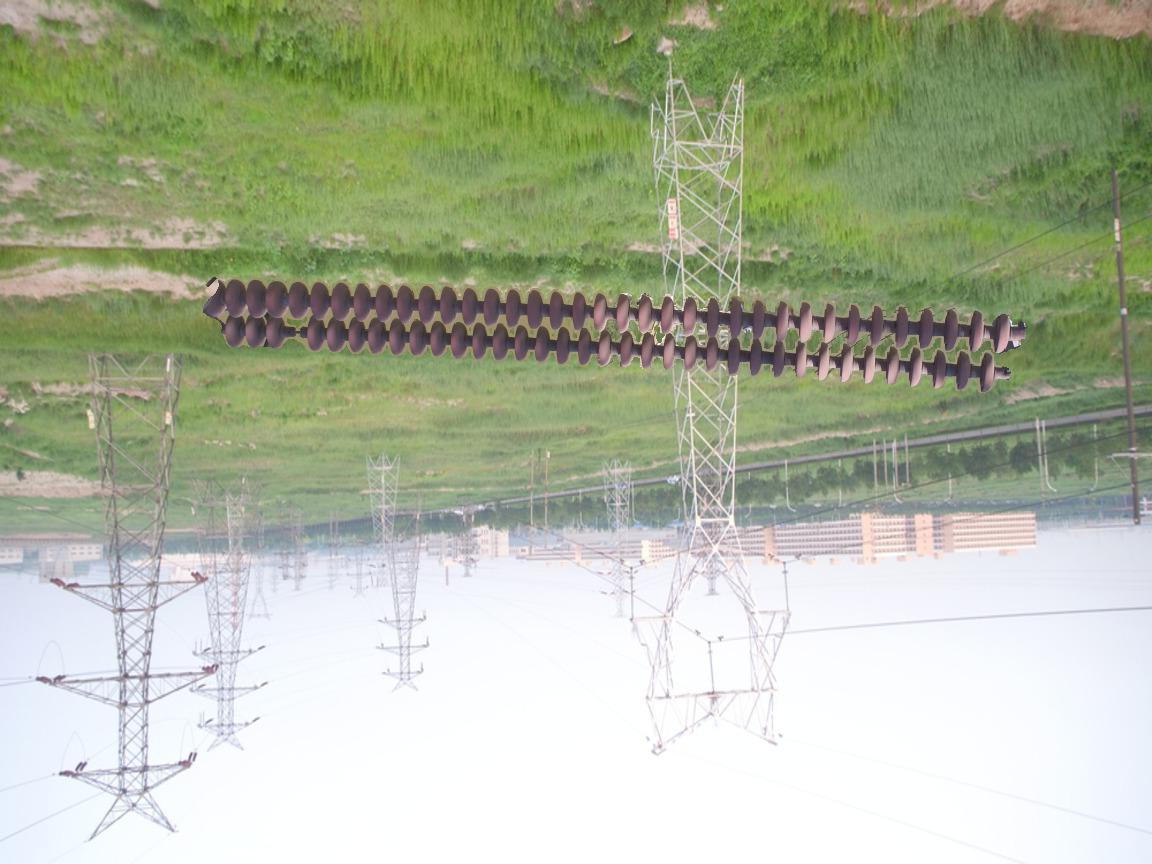insulator: (206, 270, 1019, 398)
insulator_stringdrop: (262, 316, 328, 353)
